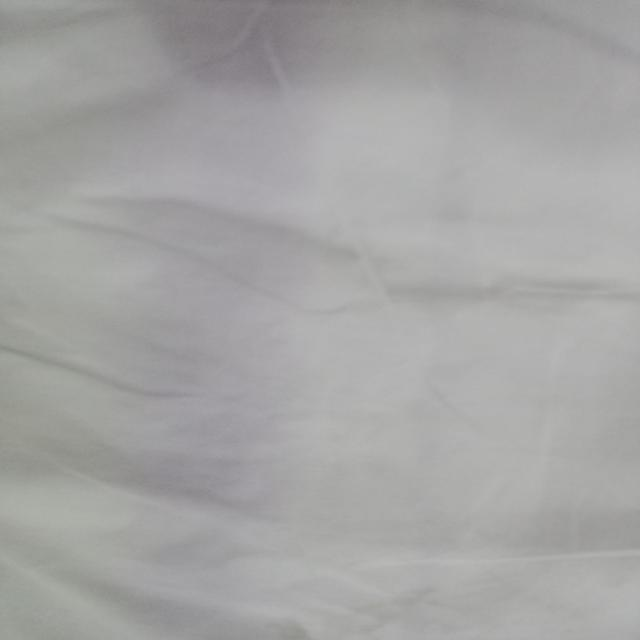stain: (106, 0, 325, 640)
